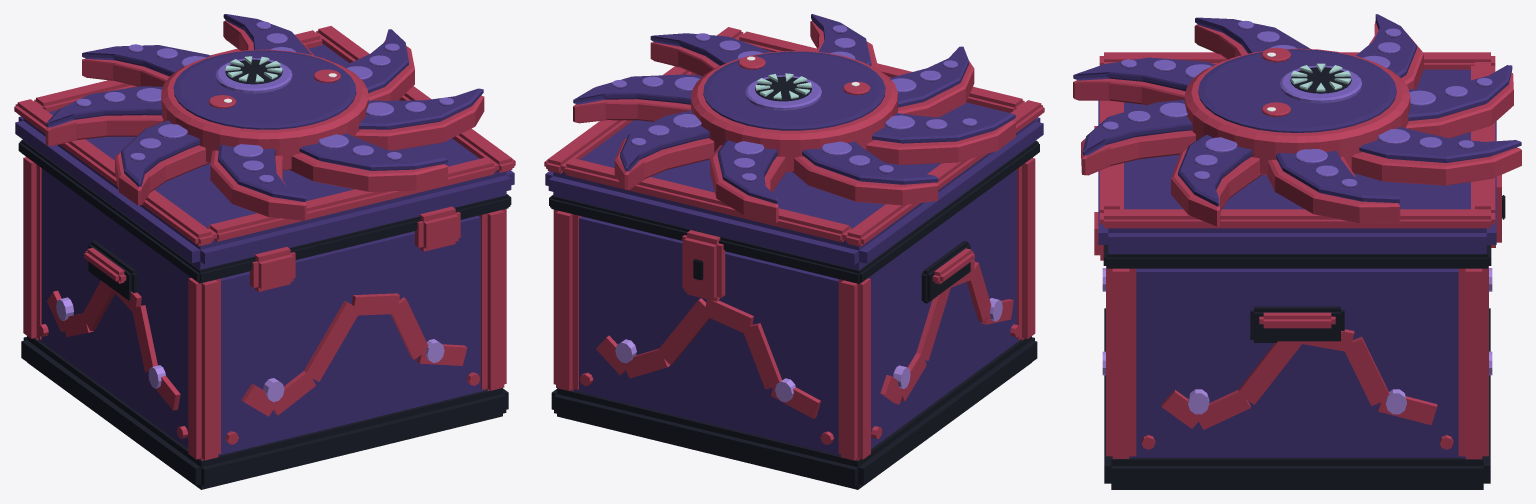
The model's file is crate_kraken.fbx.
3 renders of one model, left to right at view 1: azimuth 30°, elevation 25°; view 2: azimuth 150°, elevation 25°; view 3: azimuth 270°, elevation 25°, orthographic. The views are drawn at different scales.
Visible parts, largest first — view 1: crate_kraken_caixa; view 2: crate_kraken_caixa; view 3: crate_kraken_caixa.
Part boxes in pixels (left/top/right/bottom): crate_kraken_caixa: left=14, top=14, right=515, bottom=489; crate_kraken_caixa: left=544, top=14, right=1044, bottom=489; crate_kraken_caixa: left=1073, top=14, right=1521, bottom=489.
Bounding box in the file's own units: 2.95 × 2.43 × 2.95.
1 material, 1 textured.
